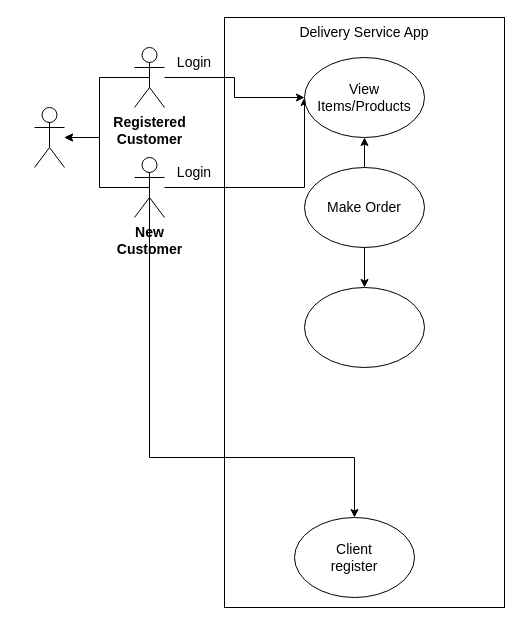
This 522x625 diagram has some shape labels left out. The shapes that lost their labels are listed below. From the top down, each one's box as (x1, y1, x2, y2) in pixels, then its label:
(34, 106, 64, 168): Customer
(304, 286, 424, 368): Checkout
